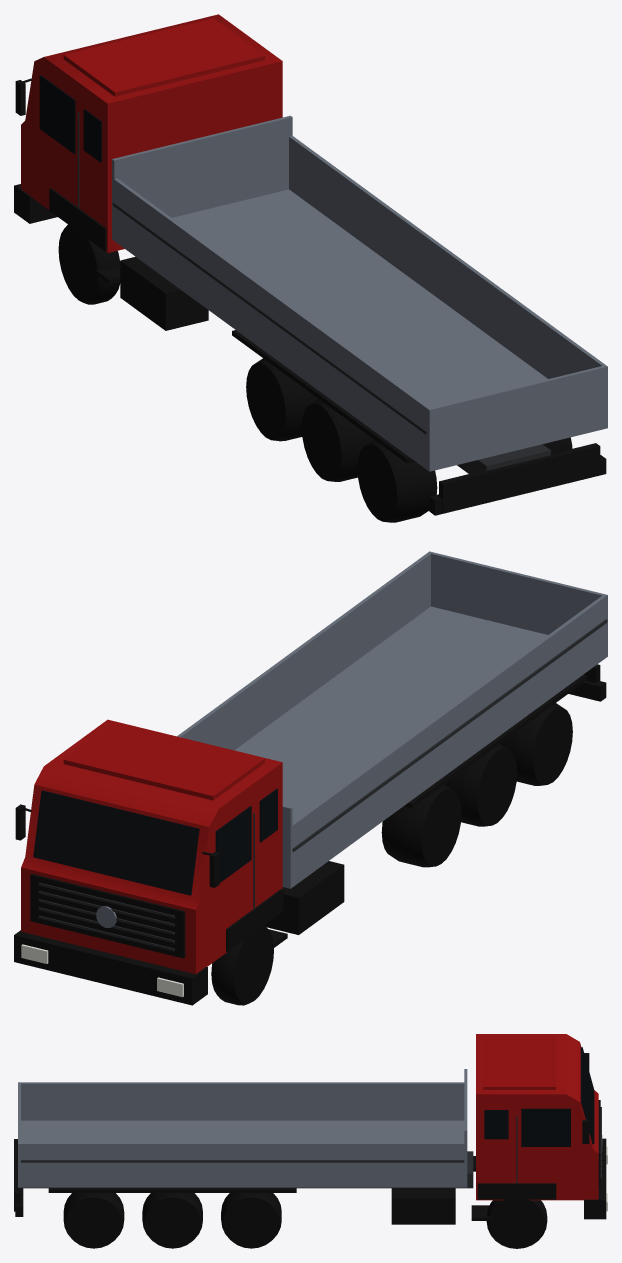
File: plant.truck.dropside_4_axle.glb
3 renders of one model, top to bottom at view 1: azimuth 30°, elevation 25°; view 2: azimuth 150°, elevation 25°; view 3: azimuth 270°, elevation 25°, orthographic. The views are drawn at different scales.
Parts seen in each view (by area): view 1: body__steel_painted, chassis__car_red, wheels__rubber, chassis__plastic_black, body__plastic_black, chassis__glass_dark, body__steel_dark, chassis__steel_dark; view 2: body__steel_painted, chassis__car_red, chassis__plastic_black, wheels__rubber, chassis__glass_dark, chassis__steel_dark, body__steel_dark, chassis__paint_white; view 3: body__steel_painted, chassis__car_red, wheels__rubber, chassis__plastic_black, chassis__glass_dark, body__steel_dark, chassis__steel_dark, body__plastic_black.
Part boxes in pixels (box(x1,y1,x2,y2)): body__steel_painted: box(112, 115, 607, 471); chassis__car_red: box(21, 14, 282, 252); wheels__rubber: box(58, 224, 572, 522); chassis__plastic_black: box(14, 78, 606, 515); body__plastic_black: box(439, 443, 600, 510); chassis__glass_dark: box(39, 75, 101, 162); body__steel_dark: box(112, 202, 427, 434); chassis__steel_dark: box(77, 112, 550, 473); body__steel_painted: box(177, 551, 607, 888); chassis__car_red: box(21, 719, 282, 974); chassis__plastic_black: box(14, 674, 606, 1005); wheels__rubber: box(211, 703, 572, 1005); chassis__glass_dark: box(33, 788, 277, 895); chassis__steel_dark: box(38, 813, 254, 951); body__steel_dark: box(292, 619, 607, 851); chassis__paint_white: box(21, 944, 183, 997); body__steel_painted: box(18, 1069, 467, 1187); chassis__car_red: box(476, 1034, 598, 1200); wheels__rubber: box(63, 1193, 547, 1248); chassis__plastic_black: box(15, 1053, 606, 1224); chassis__glass_dark: box(484, 1047, 594, 1146); body__steel_dark: box(21, 1160, 464, 1162); chassis__steel_dark: box(20, 1107, 601, 1188); body__plastic_black: box(14, 1139, 19, 1211).
Size of the model in its own units: 2.79 by 3.01 by 10.18.
